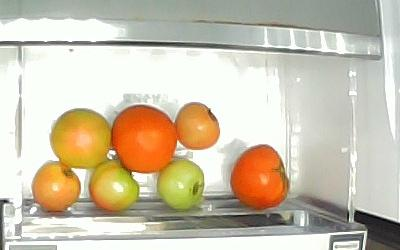tomato: (111, 104, 177, 174), (230, 143, 291, 210), (50, 108, 113, 169), (88, 160, 140, 211), (30, 162, 82, 212), (158, 157, 204, 211), (174, 100, 219, 150)
